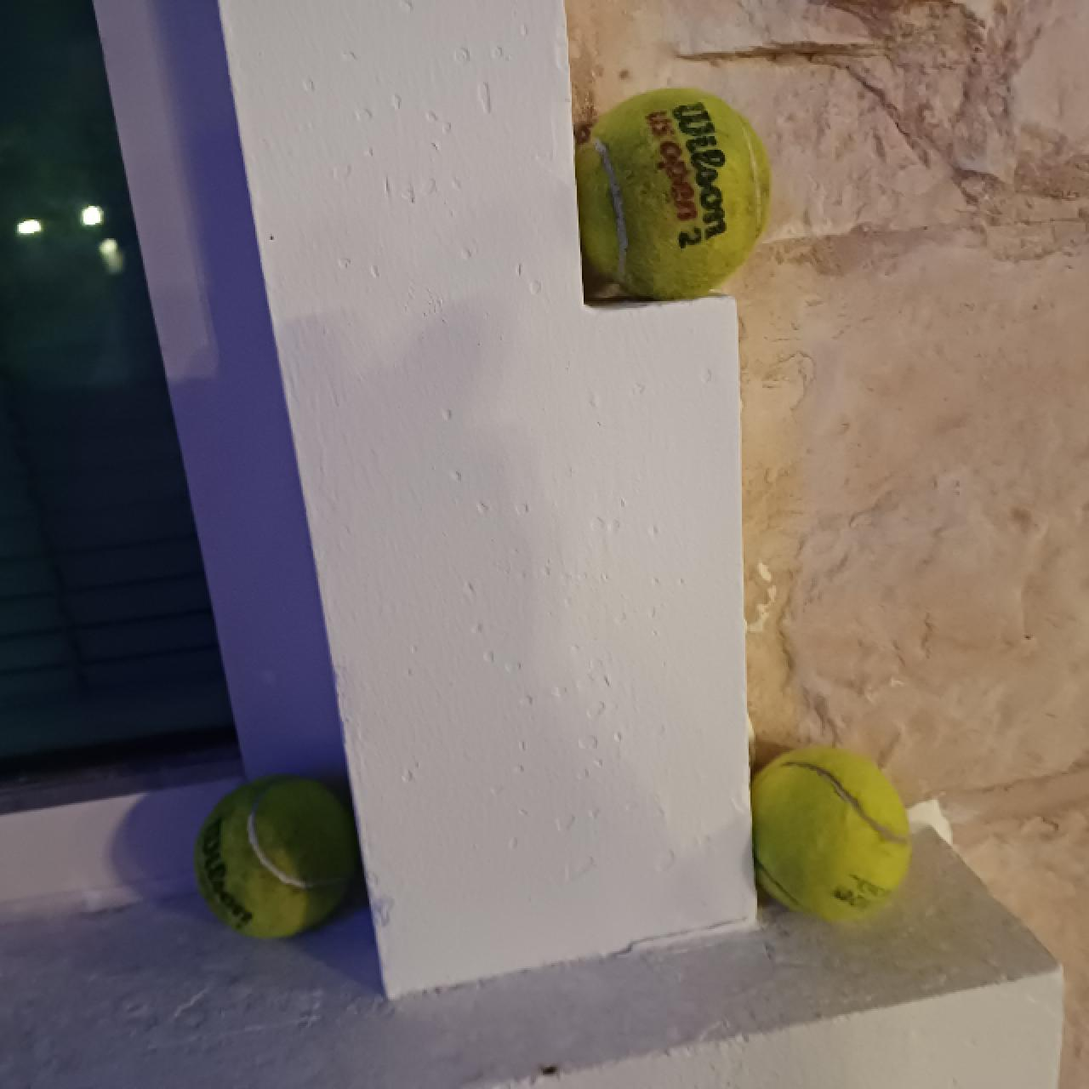tennis-ball: (565, 85, 772, 299), (743, 744, 911, 924), (195, 770, 356, 942)
